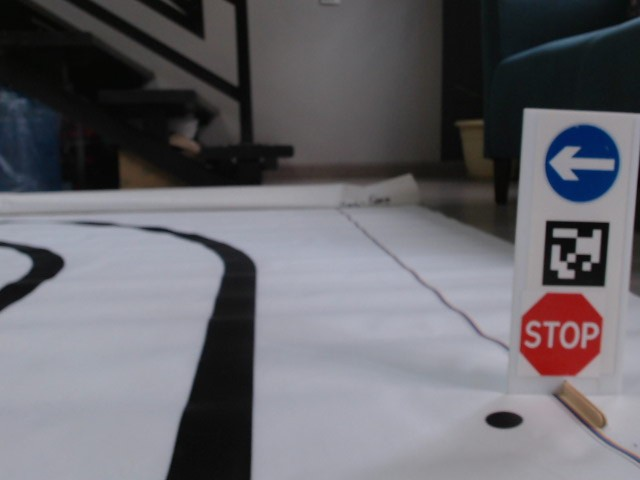Stop: (524, 293, 604, 376)
